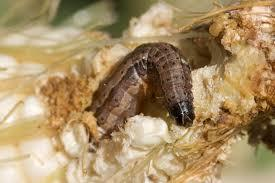fallarmy_worm: (84, 40, 207, 137)
